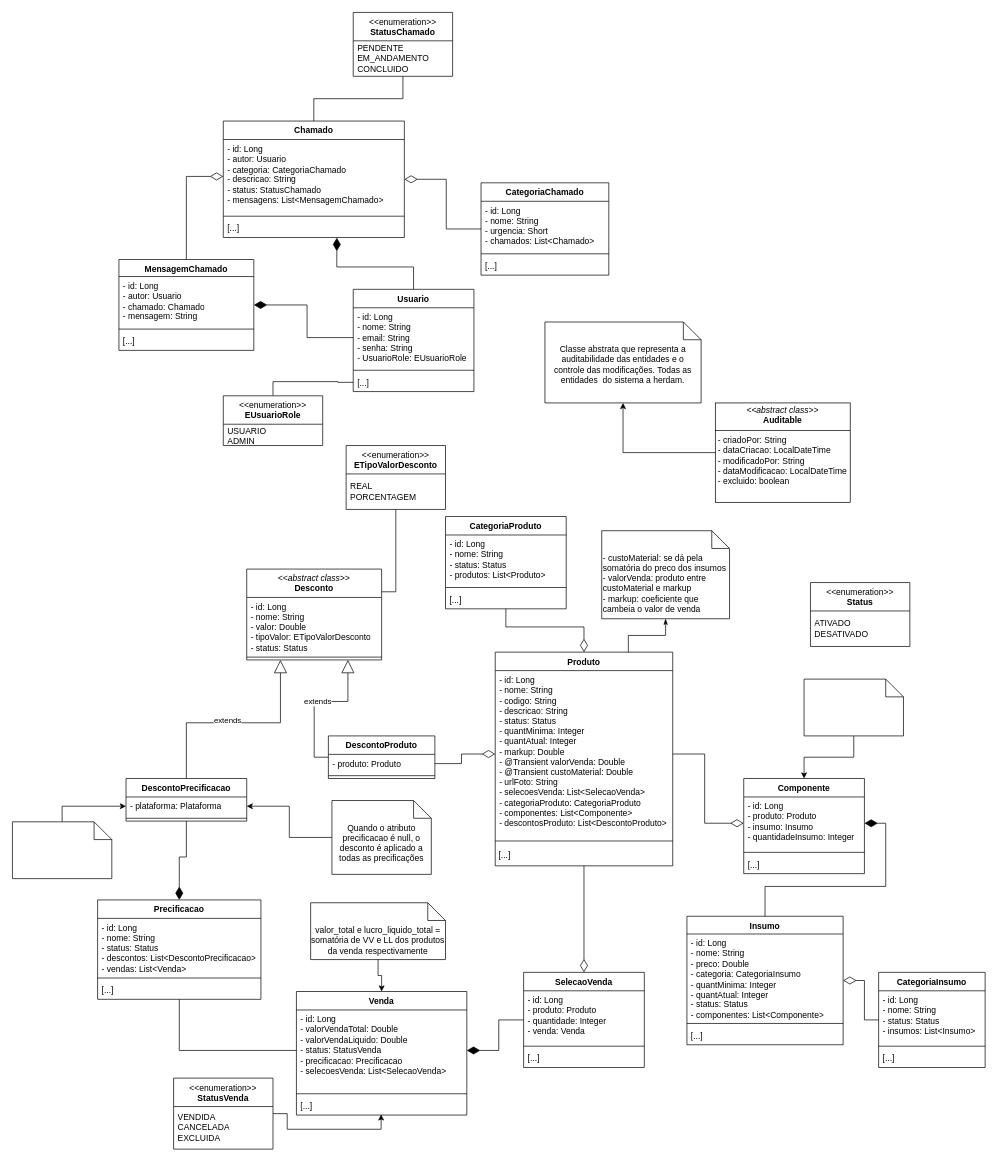
The diagram is 998 pixels wide and 1162 high, and some of its shapes have lost their labels. Each missing label, with the centre of its shape:
"descontos que são aplicados a todos os produtos" goes at point 62,850.
"Especificação de um insumo componente de um item" goes at point 853,707.
